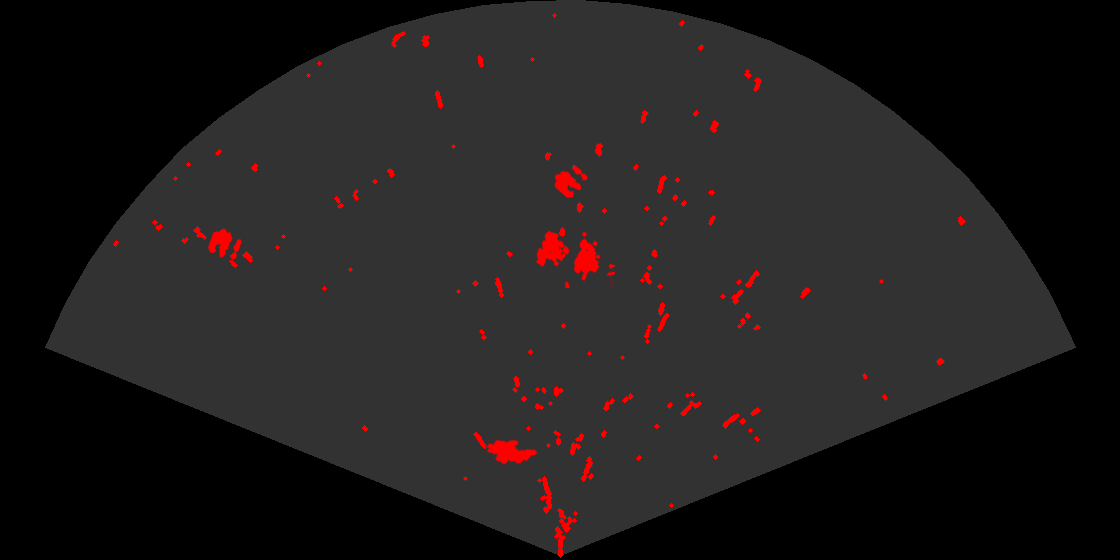AUV: (485, 438, 539, 466)
ball: (206, 227, 243, 262), (553, 164, 589, 199)
cage: (534, 229, 615, 288)
